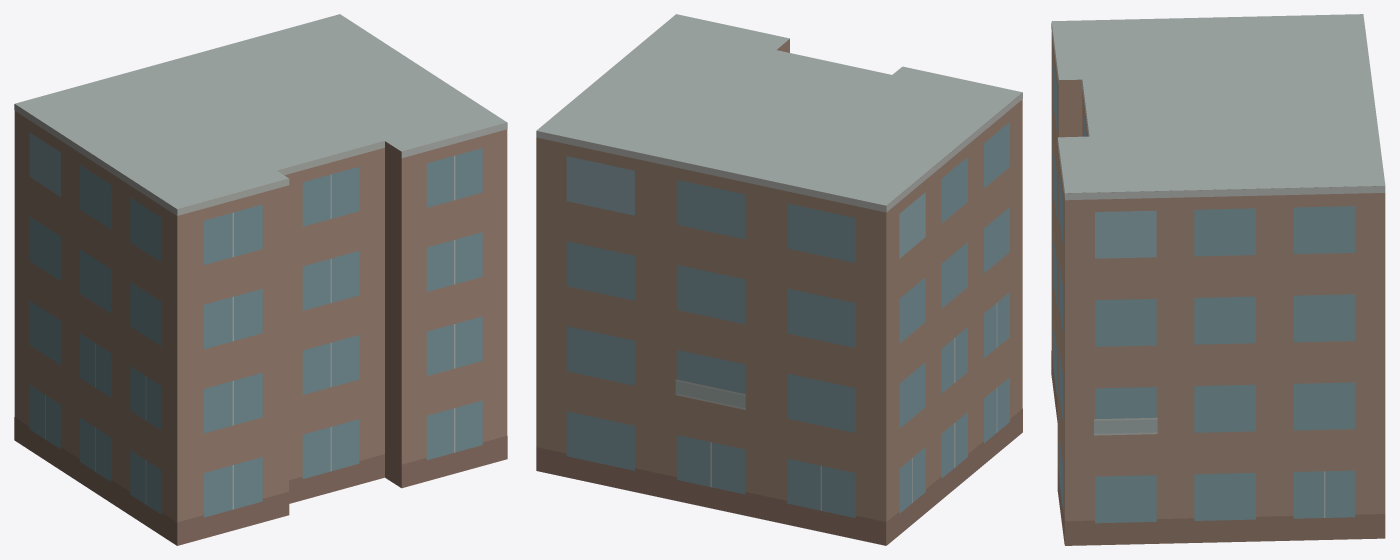
File: survey-upis-32815400.glb
3 renders of one model, left to right at view 1: azimuth 30°, elevation 25°; view 2: azimuth 150°, elevation 25°; view 3: azimuth 270°, elevation 25°, orthographic. The views are drawn at different scales.
Parts seen in each view (by area): view 1: survey-upis-32815400.tmp; view 2: survey-upis-32815400.tmp; view 3: survey-upis-32815400.tmp.
Boxes of the visible parts, x1,y1,x2,y2 form: survey-upis-32815400.tmp: [14, 14, 507, 545]; survey-upis-32815400.tmp: [536, 14, 1022, 545]; survey-upis-32815400.tmp: [1051, 14, 1385, 545].
Bounding box in the file's own units: 13.3 × 12.2 × 10.48.
